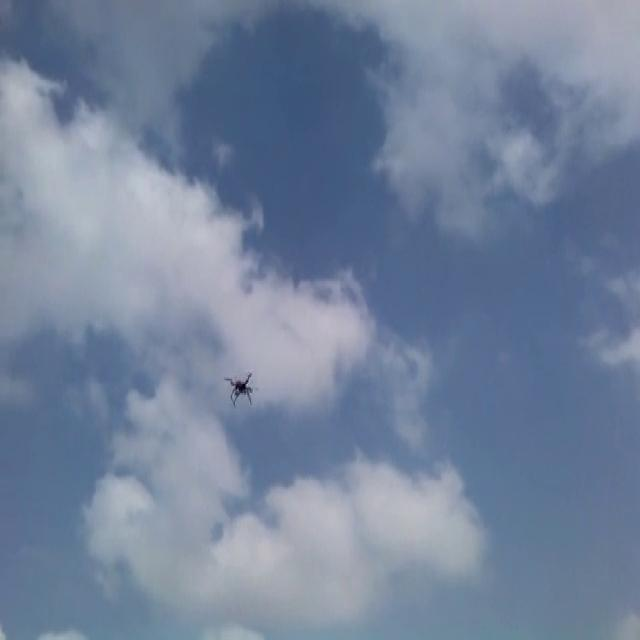drone: (222, 363, 258, 413)
